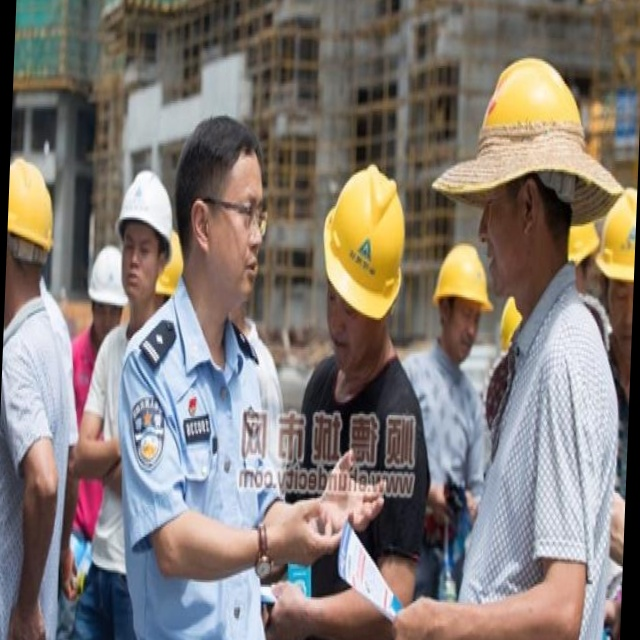Con_Casco: (319, 163, 406, 352), (116, 168, 174, 300), (5, 155, 56, 305)
Sin_Casco_Mascarrilla: (170, 114, 267, 311)
